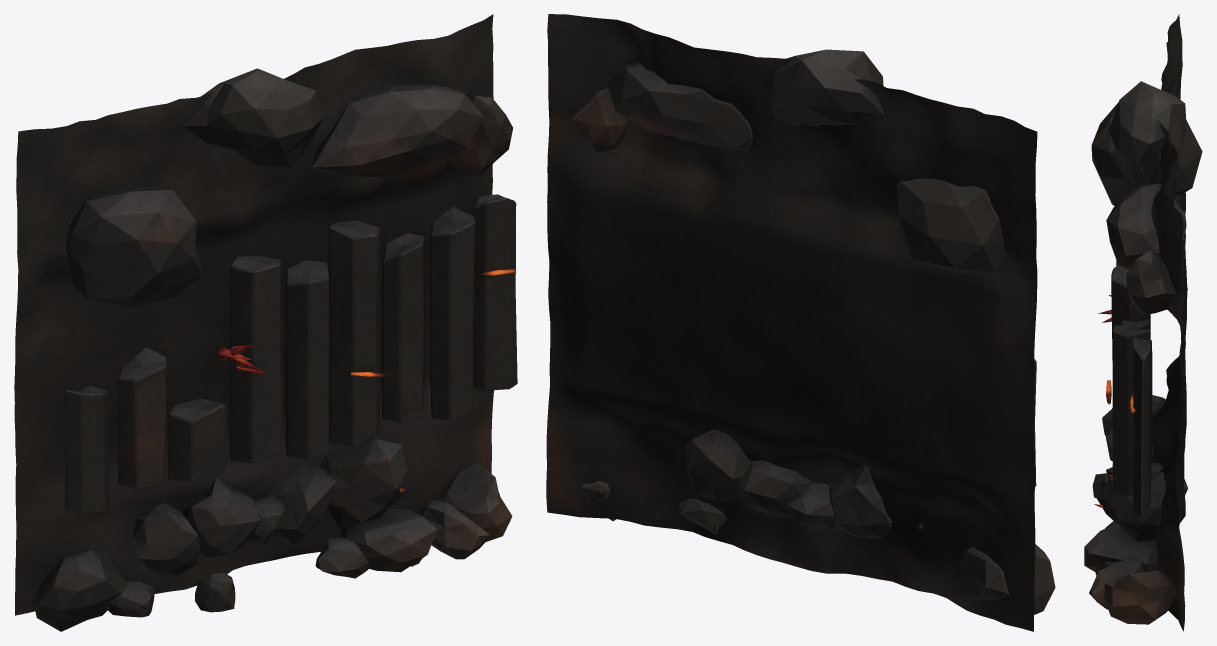
The model's file is b4p_basalt_wall_panel_a.glb.
The picture shows the model from 3 angles, left to right: view 1: azimuth 30°, elevation 25°; view 2: azimuth 150°, elevation 25°; view 3: azimuth 270°, elevation 25°; orthographic projection. The views are drawn at different scales.
Parts seen in each view (by area): view 1: b4p_basalt_wall_panel_a; view 2: b4p_basalt_wall_panel_a; view 3: b4p_basalt_wall_panel_a.
Part boxes in pixels (x1,y1,x2,y2): b4p_basalt_wall_panel_a: [14, 14, 517, 631]; b4p_basalt_wall_panel_a: [546, 14, 1055, 631]; b4p_basalt_wall_panel_a: [1084, 14, 1202, 631].
Bounding box in the file's own units: 4.1 × 4.23 × 1.02.
Materials: 1 (1 with a texture image).
